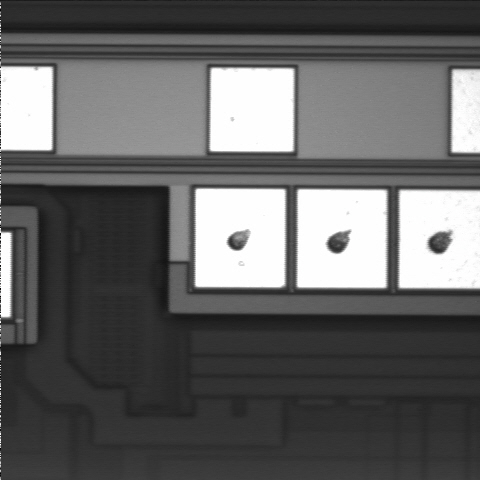pad: (297, 189, 387, 288), (195, 189, 285, 287), (210, 68, 294, 152)
